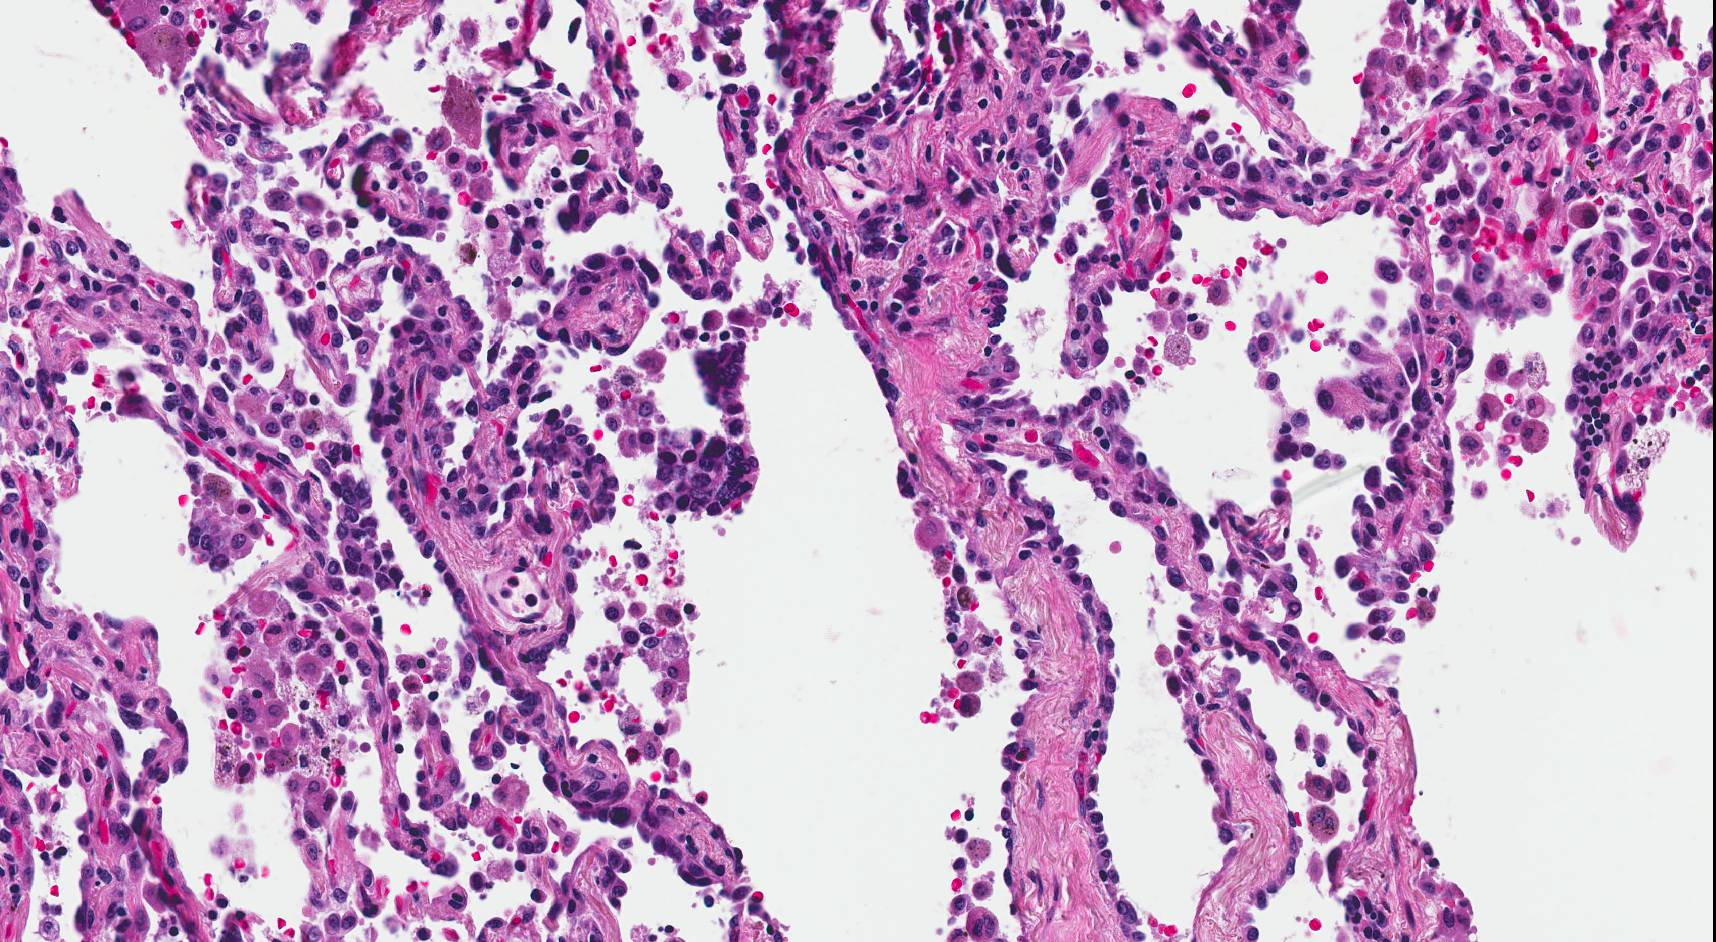stas: (653, 339, 762, 522), (324, 467, 407, 596)
